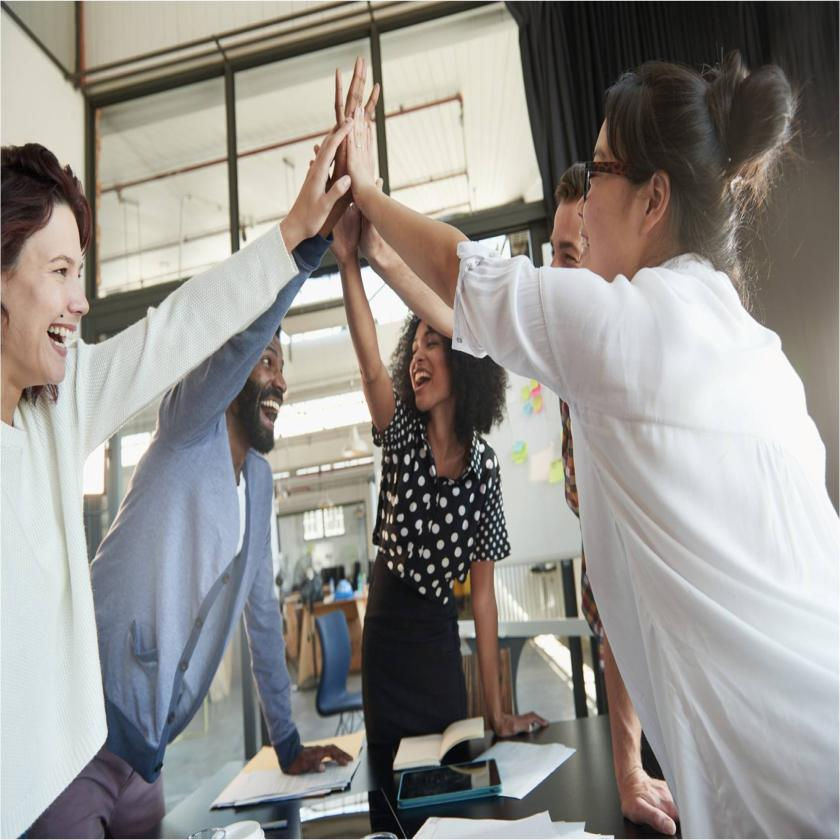Sin_casco: (585, 61, 754, 328), (0, 139, 100, 423), (400, 283, 498, 434), (240, 314, 296, 465), (548, 162, 594, 283)
